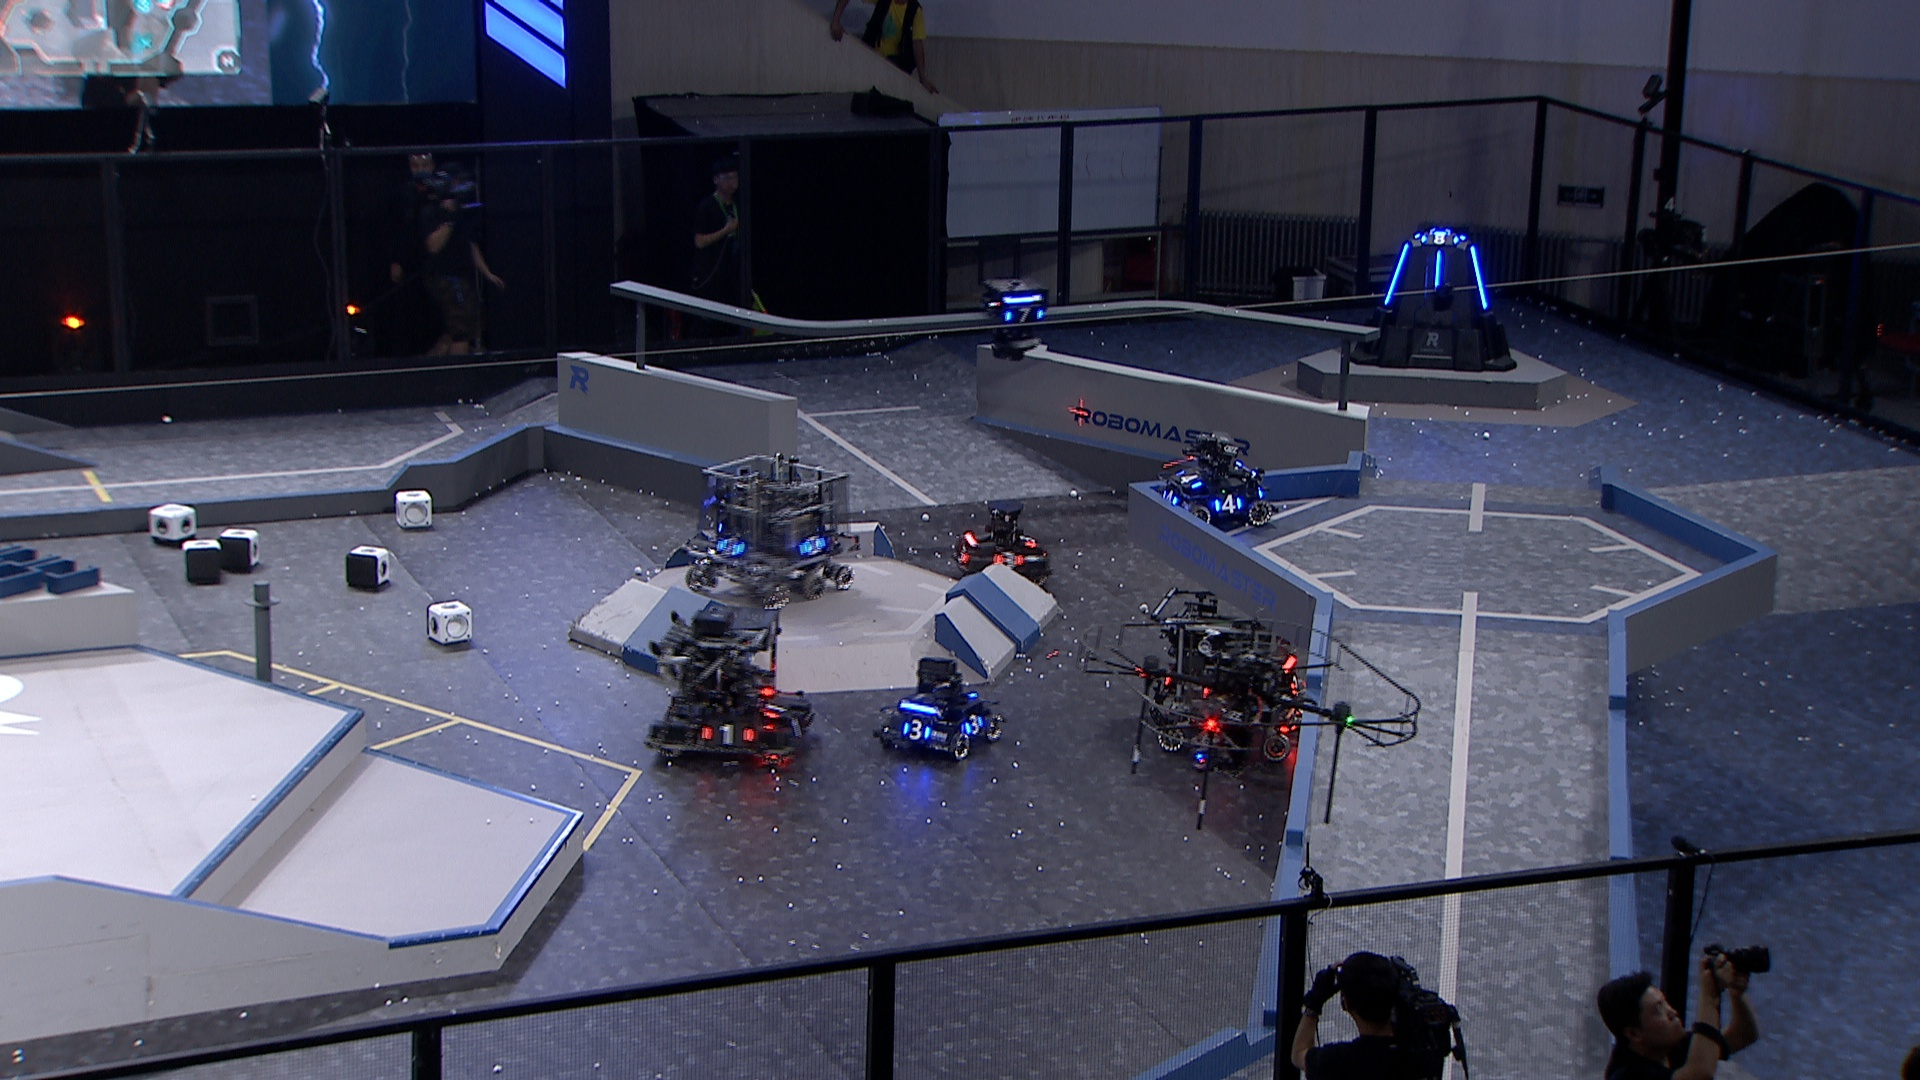armor: (1378, 240, 1414, 306), (1462, 243, 1490, 315), (698, 721, 760, 749), (1000, 306, 1048, 324), (764, 692, 793, 723), (899, 717, 934, 742), (782, 711, 807, 744), (713, 534, 746, 559), (798, 529, 825, 556), (1419, 229, 1461, 247), (992, 550, 1025, 570), (1211, 495, 1244, 514), (1432, 248, 1447, 291), (1174, 467, 1201, 489), (1015, 527, 1039, 553), (961, 712, 986, 735), (1286, 673, 1305, 698), (1159, 488, 1185, 505), (953, 541, 971, 566)
base: (1335, 224, 1520, 376)
car: (680, 450, 860, 615), (644, 603, 814, 766), (1145, 608, 1304, 770), (874, 651, 1007, 765), (1154, 427, 1282, 531), (948, 498, 1054, 589)
watcher: (978, 273, 1048, 363)
